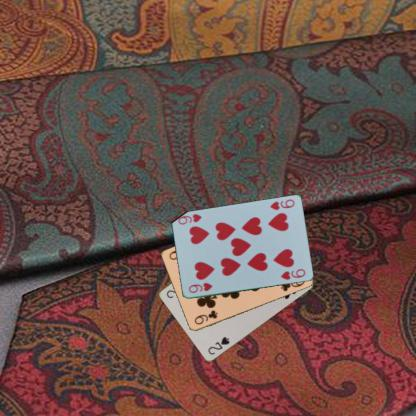2s: (205, 334, 231, 356)
9c: (192, 307, 219, 326)
9h: (186, 280, 214, 295), (267, 197, 296, 211)
